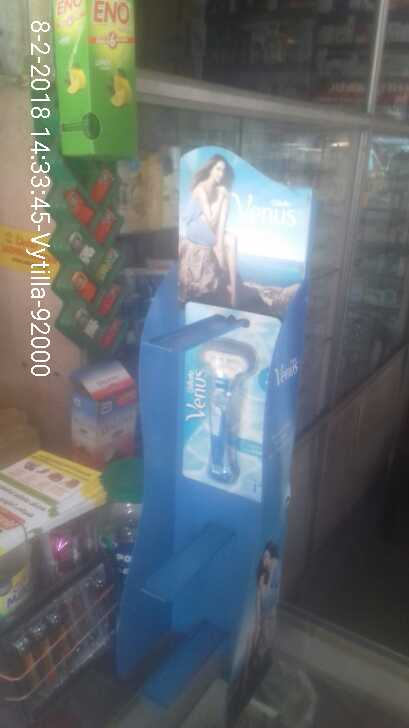venus: (183, 301, 258, 499)
